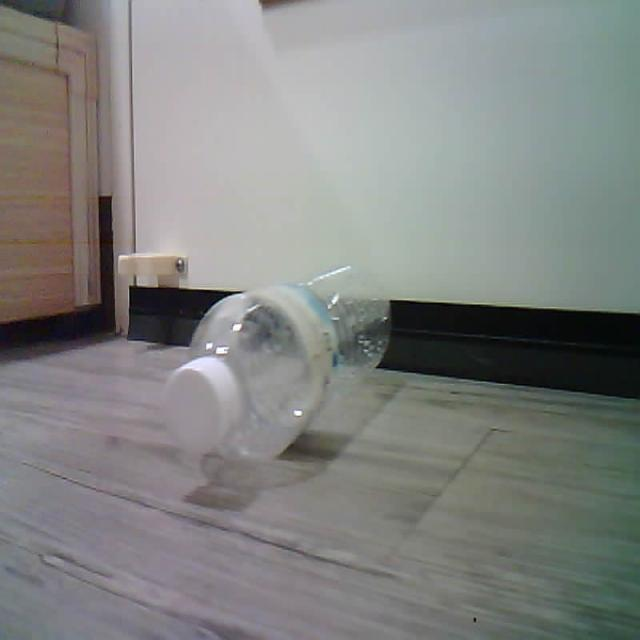bottle: (166, 266, 390, 460)
